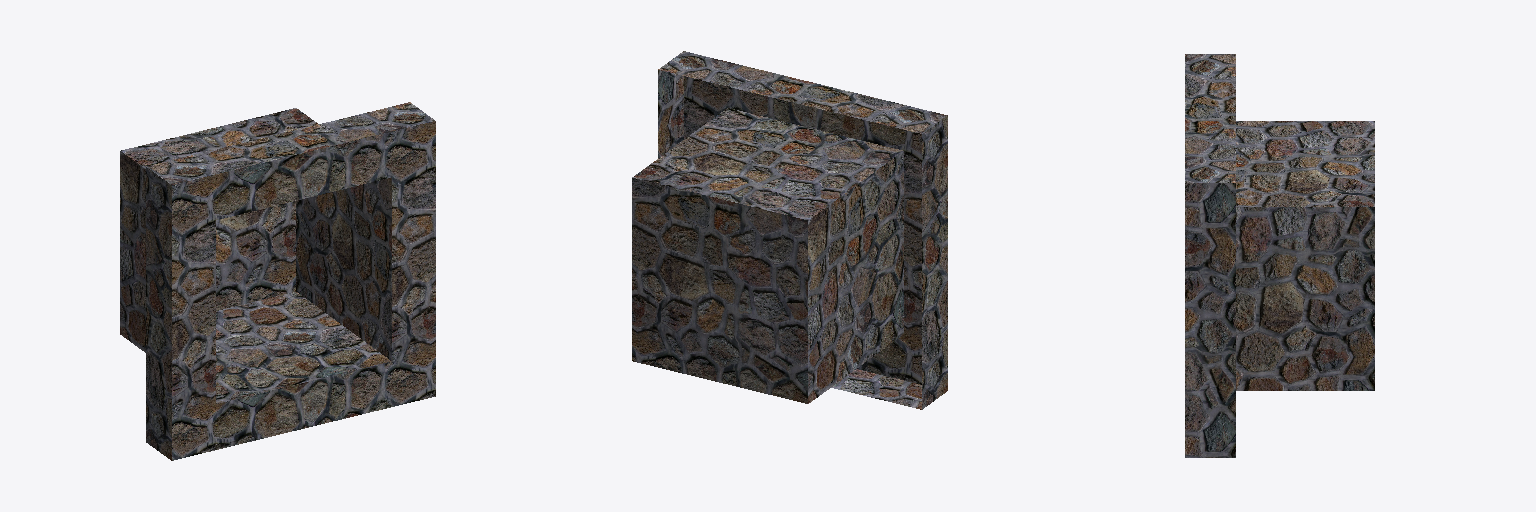
3 views of the same model, side by side, from view 1: azimuth 30°, elevation 25°; view 2: azimuth 150°, elevation 25°; view 3: azimuth 270°, elevation 25° (orthographic).
Visible parts, largest first — view 1: Box002; view 2: Box002; view 3: Box002.
Part boxes in pixels (left/top/right/bottom): Box002: left=120, top=102, right=435, bottom=460; Box002: left=632, top=51, right=947, bottom=409; Box002: left=1185, top=54, right=1374, bottom=457.
Bounding box in the file's own units: 60.31 × 60.2 × 37.71.
1 materials, 1 textured.